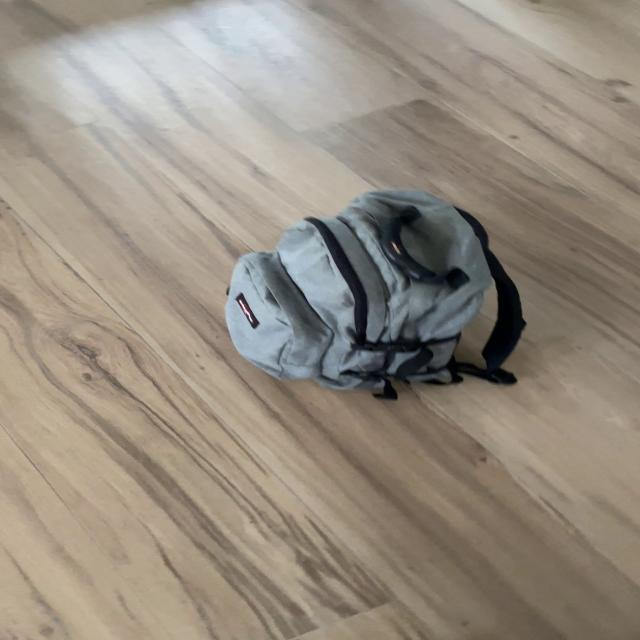backpack: (205, 182, 531, 400)
